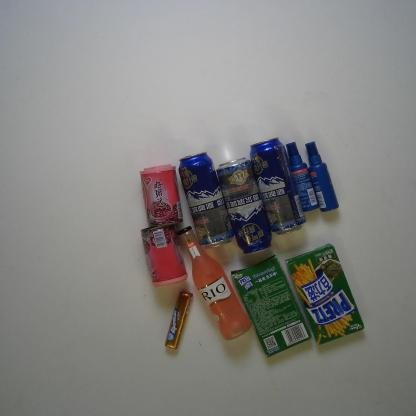Alcohol: (176, 225, 254, 344), (247, 136, 307, 236), (178, 151, 237, 252), (216, 158, 275, 256)
Candy: (161, 289, 192, 352)
Canned Food: (139, 222, 187, 286), (138, 163, 185, 227)
Dessert: (232, 254, 312, 358), (282, 245, 363, 346)
Personal Hygiene: (284, 141, 320, 211), (305, 141, 339, 212)
